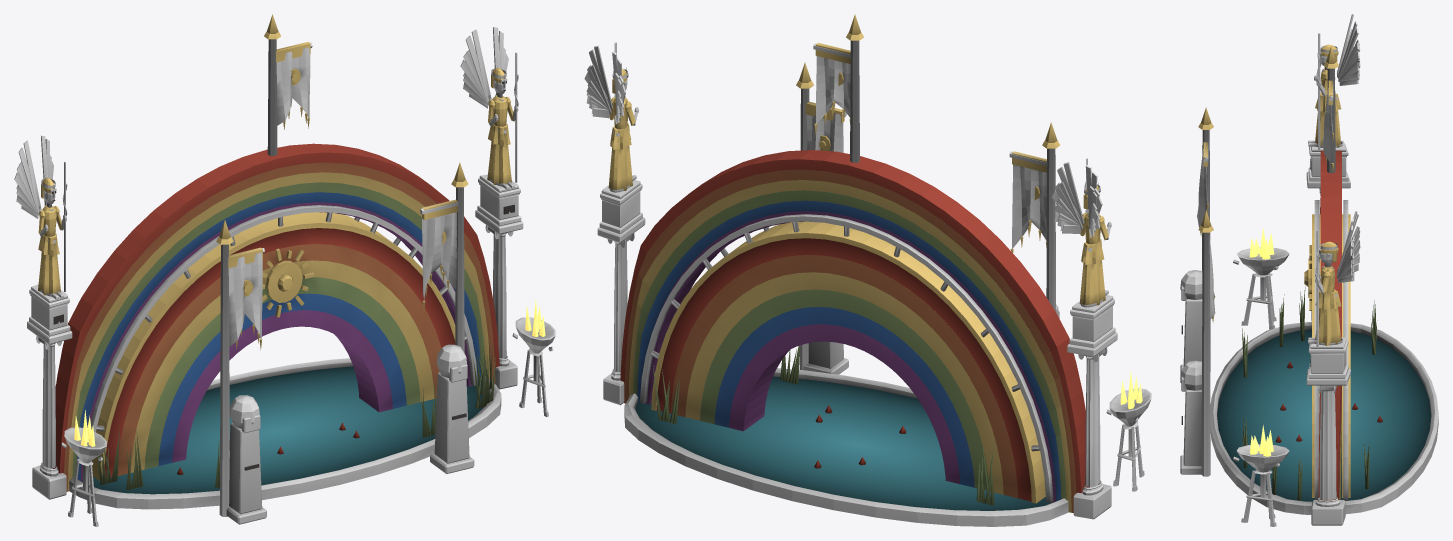
Rendered from iris-bridge-l3.glb.
3 renders of one model, left to right at view 1: azimuth 30°, elevation 25°; view 2: azimuth 150°, elevation 25°; view 3: azimuth 270°, elevation 25°, orthographic. The views are drawn at different scales.
Visible parts, largest first — view 1: iris-bridge-l3; view 2: iris-bridge-l3; view 3: iris-bridge-l3.
Part boxes in pixels (x1,y1,x2,y2): iris-bridge-l3: (14,14,555,526); iris-bridge-l3: (584,14,1151,526); iris-bridge-l3: (1180,14,1438,526).
Size of the model in its own units: 1.72 by 1.41 by 0.8708.
